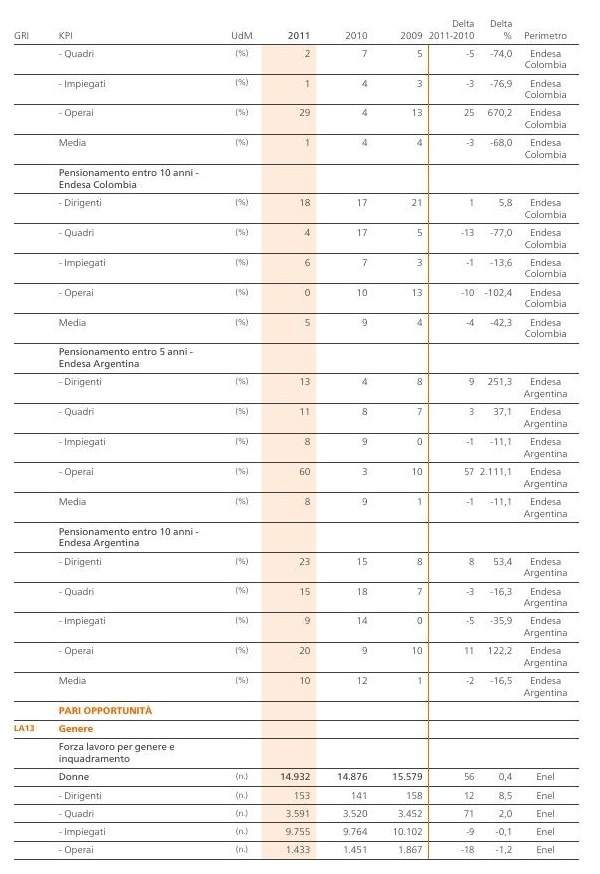table: (0, 0, 600, 874)
